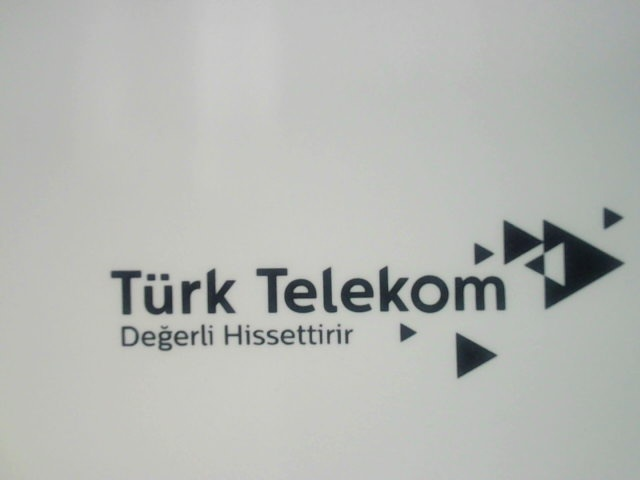AQ_TURKTelekom: (104, 203, 632, 387)
